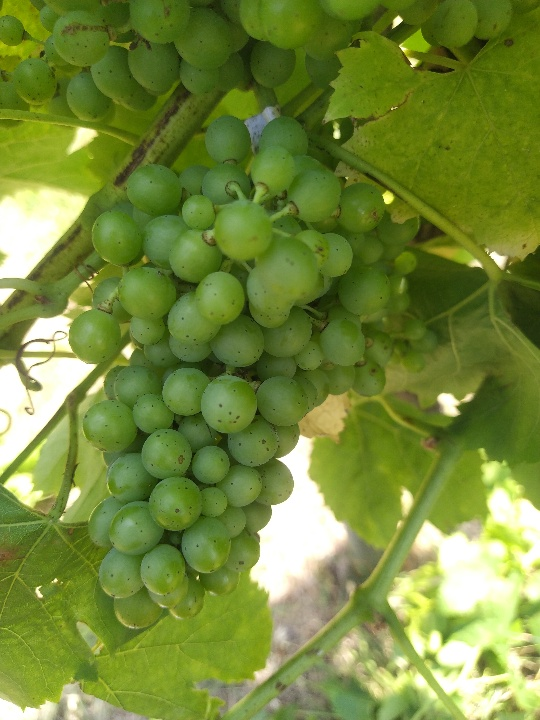grape: (62, 111, 421, 632)
